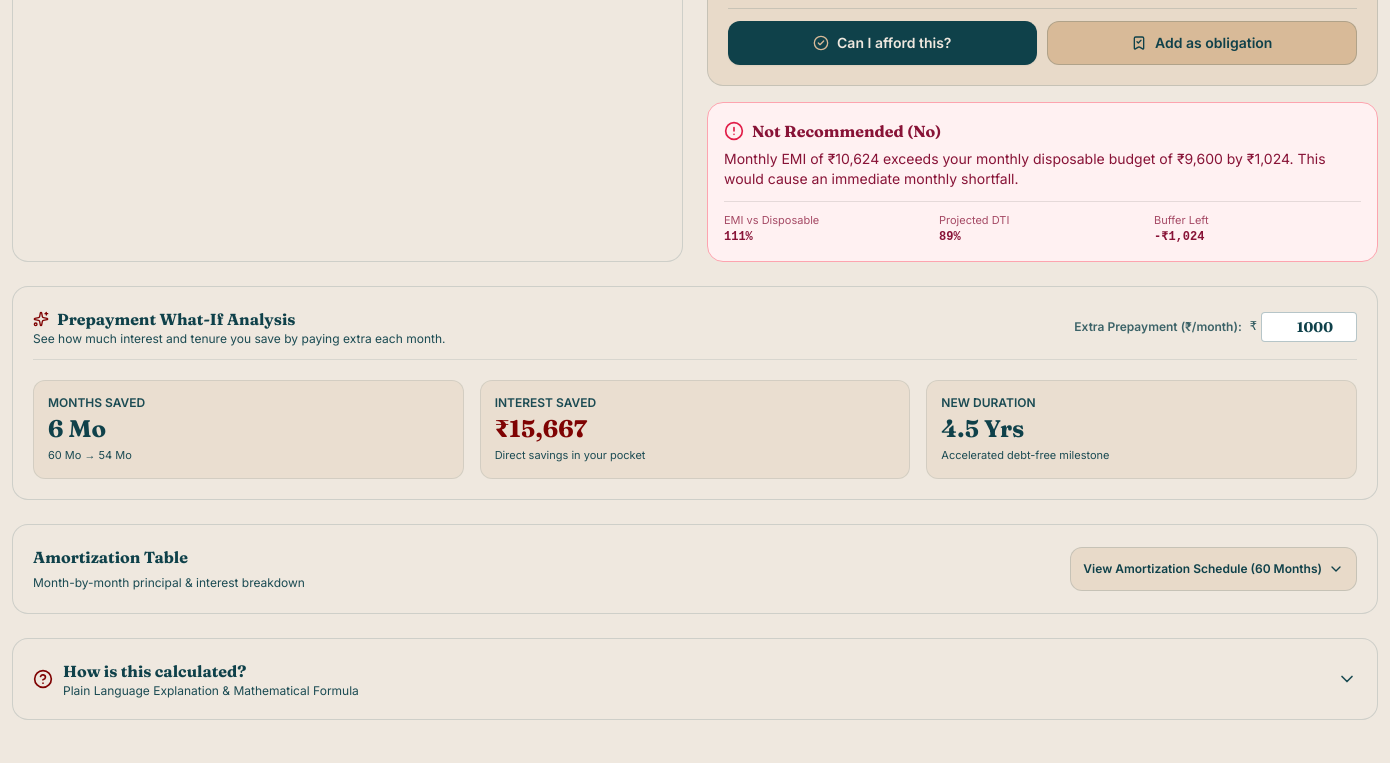
CalculatorsScreen Component Suite › toggles collapsible amortization schedule table
(page scrolled)
Expected: the column heading "remaining balance" is not shown
// Click to expand
Step 1. Click the button "View Amortization Schedule (60 Months)" → (1214, 568), box [1070,546,1357,590]
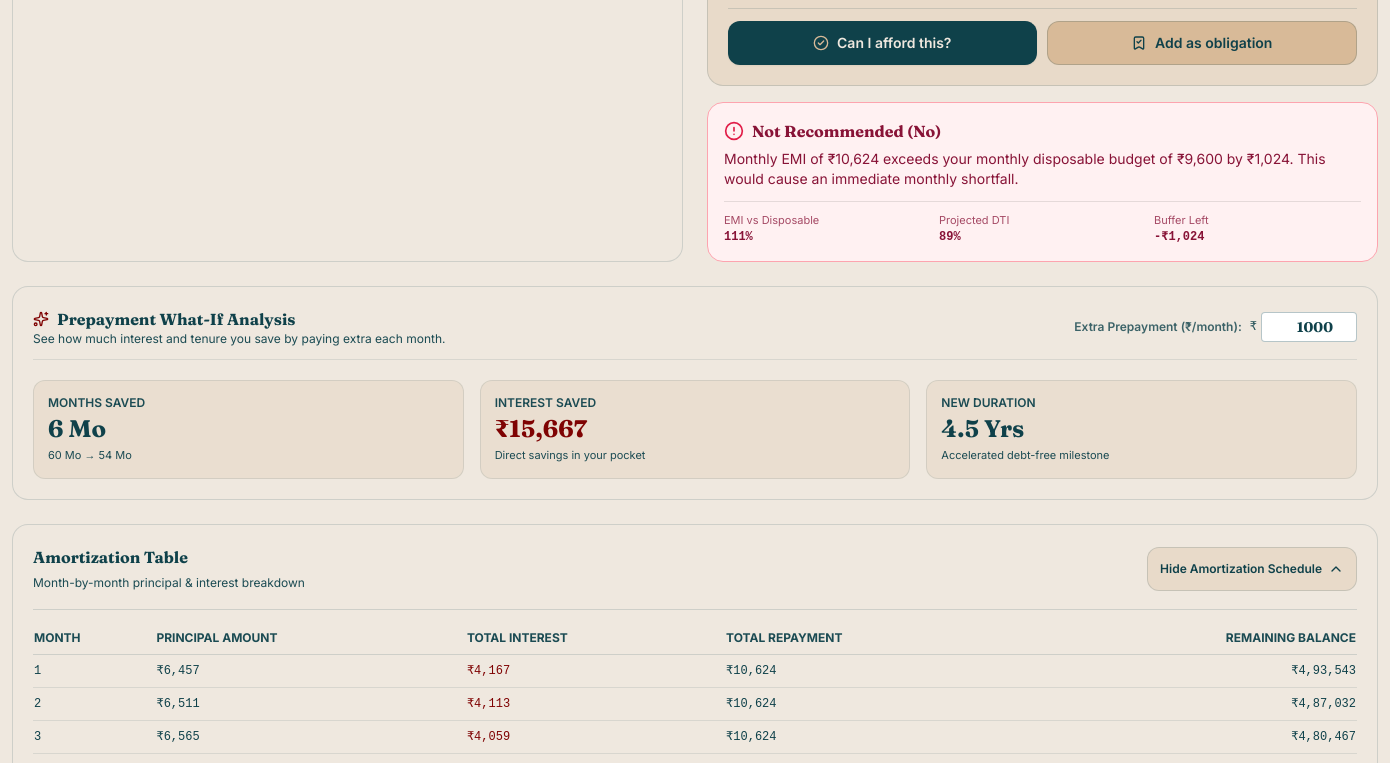
Expected: the column heading "Remaining Balance" is shown, [1024,622,1357,654]
// Click to collapse
Step 2. Click the button named "view amortization schedule" → (1252, 568), box [1147,546,1357,590]
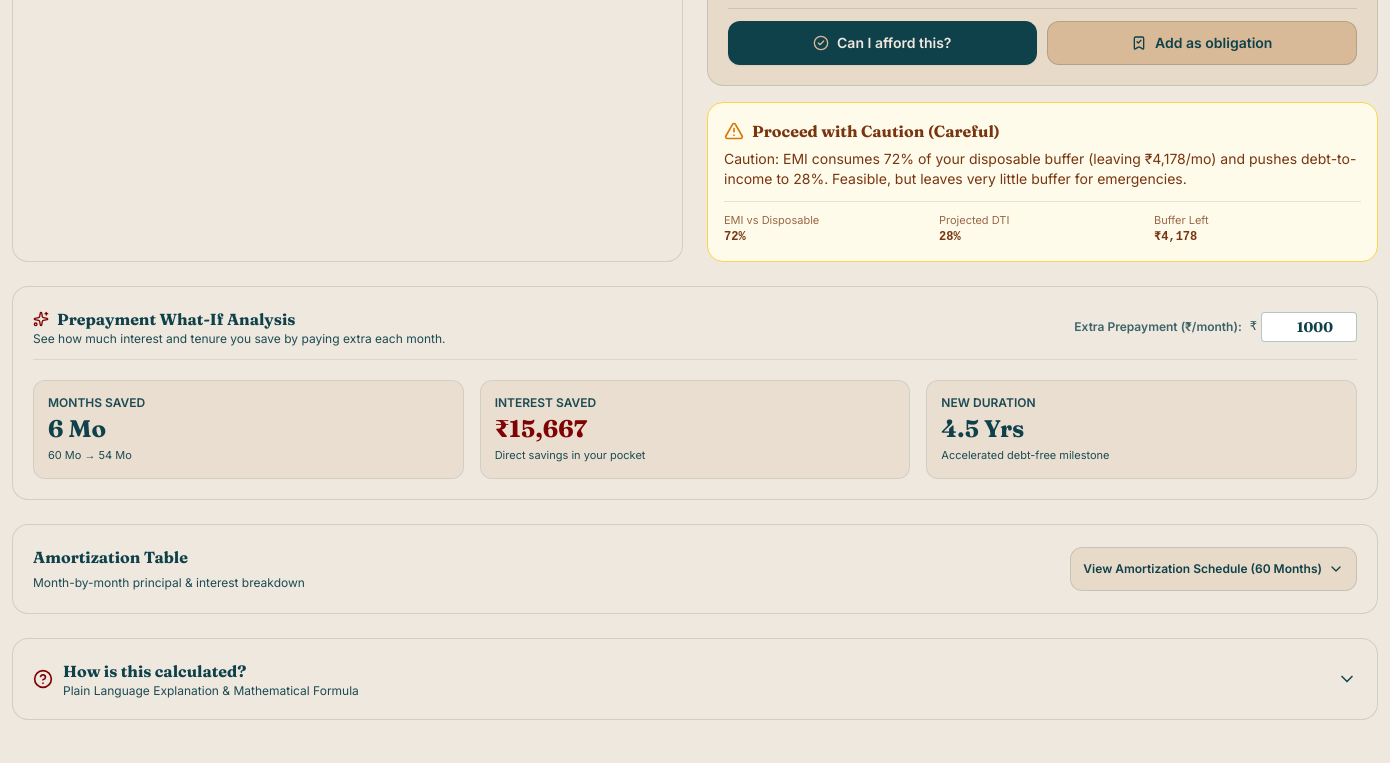
Expected: the column heading "Remaining Balance" is gone
